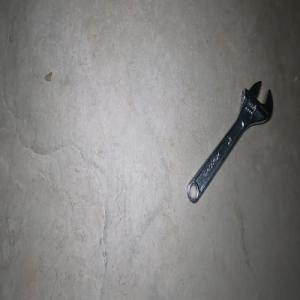Wrench: (187, 80, 273, 203)
